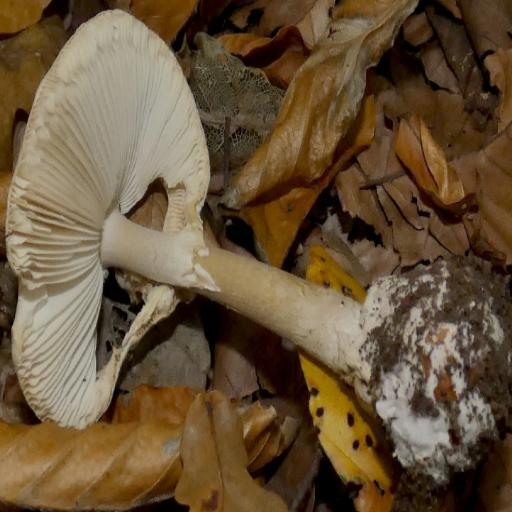mushroom: (3, 12, 511, 506)
